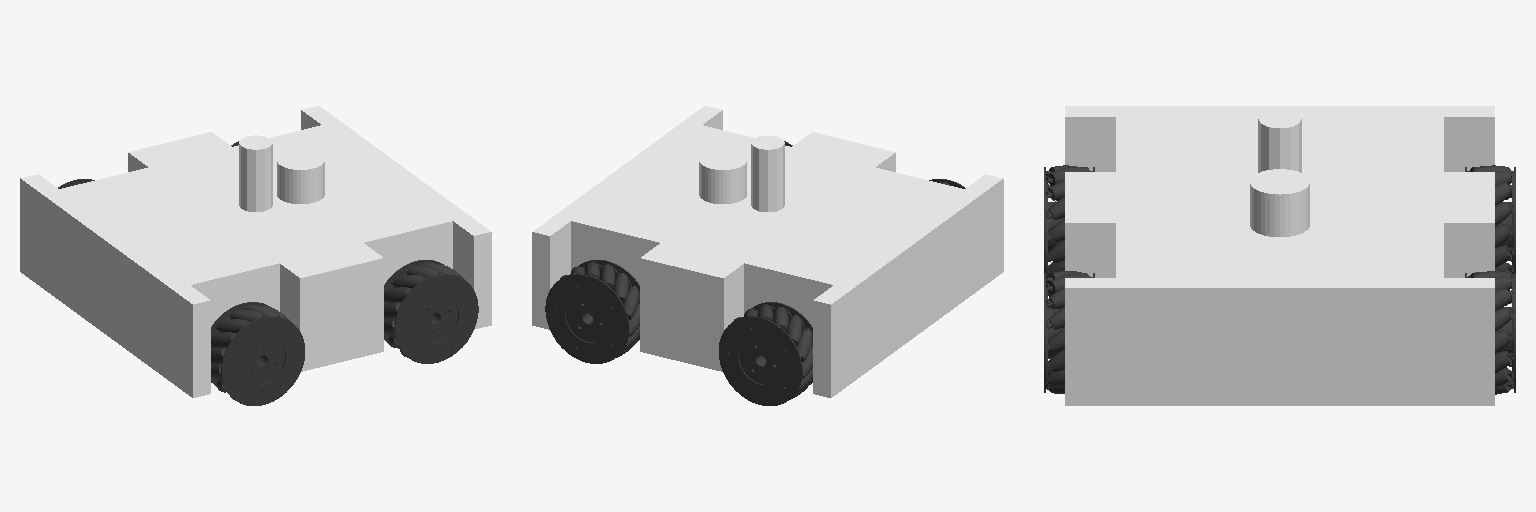
The robot description file, URDF, robot "carmodel":
<?xml version="1.0" encoding="utf-8"?>
<!-- This URDF was automatically created by SolidWorks to URDF Exporter! Originally created by [author] ([email redacted]) 
     Commit Version: 1.6.0-4-g7f85cfe  Build Version: 1.6.7995.38578
     For more information, please see http://wiki.ros.org/sw_urdf_exporter -->
<robot
  name="carmodel">
  <link
    name="base_link">
    <inertial>
      <origin
        xyz="1.83437767323213E-07 0 0.0757416972495107"
        rpy="0 0 0" />
      <mass
        value="57.5000842612895" />
      <inertia
        ixx="1.03705654741234"
        ixy="-3.82727326264883E-17"
        ixz="-1.16651163426314E-06"
        iyy="1.28399979970935"
        iyz="9.16355064710203E-18"
        izz="2.0953613948117" />
    </inertial>
    <visual>
      <origin
        xyz="0 0 0"
        rpy="0 0 0" />
      <geometry>
        <mesh
          filename="package://carmodel/meshes/base_link.STL" />
      </geometry>
      <material
        name="">
        <color
          rgba="1 1 1 1" />
      </material>
    </visual>
    <collision>
      <origin
        xyz="0 0 0"
        rpy="0 0 0" />
      <geometry>
        <mesh
          filename="package://carmodel/meshes/base_link.STL" />
      </geometry>
    </collision>
  </link>
  <link
    name="wheel_left_front_link">
    <inertial>
      <origin
        xyz="6.31155165520259E-07 -0.0278661932324391 -4.19737983672203E-07"
        rpy="0 0 0" />
      <mass
        value="0.523991092221911" />
      <inertia
        ixx="0.00024114925756414"
        ixy="4.272300491493E-10"
        ixz="-1.41228888917539E-09"
        iyy="0.000363904083939778"
        iyz="-2.84109198876136E-10"
        izz="0.000241148073024117" />
    </inertial>
    <visual>
      <origin
        xyz="0 0 0"
        rpy="0 0 0" />
      <geometry>
        <mesh
          filename="package://carmodel/meshes/wheel_left_front_link.STL" />
      </geometry>
      <material
        name="">
        <color
          rgba="0.298039215686275 0.298039215686275 0.298039215686275 1" />
      </material>
    </visual>
    <collision>
      <origin
        xyz="0 0 0"
        rpy="0 0 0" />
      <geometry>
        <mesh
          filename="package://carmodel/meshes/wheel_left_front_link.STL" />
      </geometry>
    </collision>
  </link>
  <joint
    name="wheel_left_front_joint"
    type="continuous">
    <origin
      xyz="0.14503 0.27138 0.044"
      rpy="0 0 0" />
    <parent
      link="base_link" />
    <child
      link="wheel_left_front_link" />
    <axis
      xyz="0 1 0" />
  </joint>
  <link
    name="wheel_left_back_link">
    <inertial>
      <origin
        xyz="6.31155165457808E-07 -0.0278661932324388 -4.19737983646182E-07"
        rpy="0 0 0" />
      <mass
        value="0.523991092221911" />
      <inertia
        ixx="0.000241149257564134"
        ixy="4.27230048844126E-10"
        ixz="-1.4122888888441E-09"
        iyy="0.000363904083939771"
        iyz="-2.84109199606226E-10"
        izz="0.000241148073024111" />
    </inertial>
    <visual>
      <origin
        xyz="0 0 0"
        rpy="0 0 0" />
      <geometry>
        <mesh
          filename="package://carmodel/meshes/wheel_left_back_link.STL" />
      </geometry>
      <material
        name="">
        <color
          rgba="0.298039215686275 0.298039215686275 0.298039215686275 1" />
      </material>
    </visual>
    <collision>
      <origin
        xyz="0 0 0"
        rpy="0 0 0" />
      <geometry>
        <mesh
          filename="package://carmodel/meshes/wheel_left_back_link.STL" />
      </geometry>
    </collision>
  </link>
  <joint
    name="wheel_left_back_joint"
    type="continuous">
    <origin
      xyz="-0.14497 0.27138 0.044"
      rpy="0 0 0" />
    <parent
      link="base_link" />
    <child
      link="wheel_left_back_link" />
    <axis
      xyz="0 1 0" />
  </joint>
  <link
    name="wheel_right_back_link">
    <inertial>
      <origin
        xyz="-7.43795663067648E-07 0.0268661932324409 -1.45960579910759E-07"
        rpy="0 0 0" />
      <mass
        value="0.523991092220049" />
      <inertia
        ixx="0.000241150083189761"
        ixy="5.03472139870328E-10"
        ixz="5.78718895051057E-10"
        iyy="0.000363904083939767"
        iyz="9.87893865688362E-11"
        izz="0.000241147247398468" />
    </inertial>
    <visual>
      <origin
        xyz="0 0 0"
        rpy="0 0 0" />
      <geometry>
        <mesh
          filename="package://carmodel/meshes/wheel_right_back_link.STL" />
      </geometry>
      <material
        name="">
        <color
          rgba="0.298039215686275 0.298039215686275 0.298039215686275 1" />
      </material>
    </visual>
    <collision>
      <origin
        xyz="0 0 0"
        rpy="0 0 0" />
      <geometry>
        <mesh
          filename="package://carmodel/meshes/wheel_right_back_link.STL" />
      </geometry>
    </collision>
  </link>
  <joint
    name="wheel_right_back_joint"
    type="continuous">
    <origin
      xyz="-0.14497 -0.27038 0.044"
      rpy="0 0 0" />
    <parent
      link="base_link" />
    <child
      link="wheel_right_back_link" />
    <axis
      xyz="0 -1 0" />
  </joint>
  <link
    name="wheel_right_front_link">
    <inertial>
      <origin
        xyz="-3.14836830273002E-07 0.0278661932324386 6.89500601966028E-07"
        rpy="0 0 0" />
      <mass
        value="0.523991092220466" />
      <inertia
        ixx="0.000241147662218502"
        ixy="2.13099554246371E-10"
        ixz="-1.1572308694175E-09"
        iyy="0.000363904083939788"
        iyz="-4.66725830246774E-10"
        izz="0.000241149668369752" />
    </inertial>
    <visual>
      <origin
        xyz="0 0 0"
        rpy="0 0 0" />
      <geometry>
        <mesh
          filename="package://carmodel/meshes/wheel_right_front_link.STL" />
      </geometry>
      <material
        name="">
        <color
          rgba="0.298039215686275 0.298039215686275 0.298039215686275 1" />
      </material>
    </visual>
    <collision>
      <origin
        xyz="0 0 0"
        rpy="0 0 0" />
      <geometry>
        <mesh
          filename="package://carmodel/meshes/wheel_right_front_link.STL" />
      </geometry>
    </collision>
  </link>
  <joint
    name="wheel_right_front_joint"
    type="continuous">
    <origin
      xyz="0.14503 -0.27138 0.044"
      rpy="0 0 0" />
    <parent
      link="base_link" />
    <child
      link="wheel_right_front_link" />
    <axis
      xyz="0 -1 0" />
  </joint>
  <link
    name="radar_link">
    <inertial>
      <origin
        xyz="0 0 0.0275"
        rpy="0 0 0" />
      <mass
        value="0.211664805035612" />
      <inertia
        ixx="0.000118179516144884"
        ixy="0"
        ixz="6.92677814647949E-37"
        iyy="0.000118179516144884"
        iyz="1.10220644459236E-36"
        izz="0.000129644693084313" />
    </inertial>
    <visual>
      <origin
        xyz="0 0 0"
        rpy="0 0 0" />
      <geometry>
        <mesh
          filename="package://carmodel/meshes/radar_link.STL" />
      </geometry>
      <material
        name="">
        <color
          rgba="1 1 1 1" />
      </material>
    </visual>
    <collision>
      <origin
        xyz="0 0 0"
        rpy="0 0 0" />
      <geometry>
        <mesh
          filename="package://carmodel/meshes/radar_link.STL" />
      </geometry>
    </collision>
  </link>
  <joint
    name="radar_joint"
    type="fixed">
    <origin
      xyz="0.0750275357424189 0 0.15"
      rpy="0 0 0" />
    <parent
      link="base_link" />
    <child
      link="radar_link" />
    <axis
      xyz="0 -1 0" />
  </joint>
</robot>

--- Render facts (derived) ---
Views: 3 orthographic renders of the robot side by side, from view 1: azimuth 30°, elevation 25°; view 2: azimuth 150°, elevation 25°; view 3: azimuth 270°, elevation 25°.
Model carmodel with 6 links and 5 joints (4 continuous, 1 fixed), rooted at base_link, posed every joint at zero.
Visible links, largest first — view 1: base_link, wheel_right_front_link, wheel_right_back_link, radar_link; view 2: base_link, wheel_left_front_link, wheel_left_back_link, radar_link; view 3: base_link, radar_link, wheel_right_front_link, wheel_left_front_link, wheel_right_back_link, wheel_left_back_link.
Link boxes in pixels (x1,y1,x2,y2): base_link: (20, 106, 491, 397); wheel_right_front_link: (384, 260, 478, 363); wheel_right_back_link: (211, 302, 304, 405); radar_link: (277, 150, 324, 203); base_link: (532, 106, 1003, 397); wheel_left_front_link: (545, 260, 639, 363); wheel_left_back_link: (719, 302, 812, 405); radar_link: (699, 150, 746, 203); base_link: (1065, 106, 1494, 405); radar_link: (1250, 169, 1309, 236); wheel_right_front_link: (1044, 271, 1094, 393); wheel_left_front_link: (1465, 271, 1515, 394); wheel_right_back_link: (1044, 165, 1094, 276); wheel_left_back_link: (1465, 165, 1515, 276).
Bounding box of the posed robot: 0.5 × 0.5468 × 0.2782 m (x, y, z).
6 mesh visuals loaded from 6 distinct referenced files (6 binary STL).